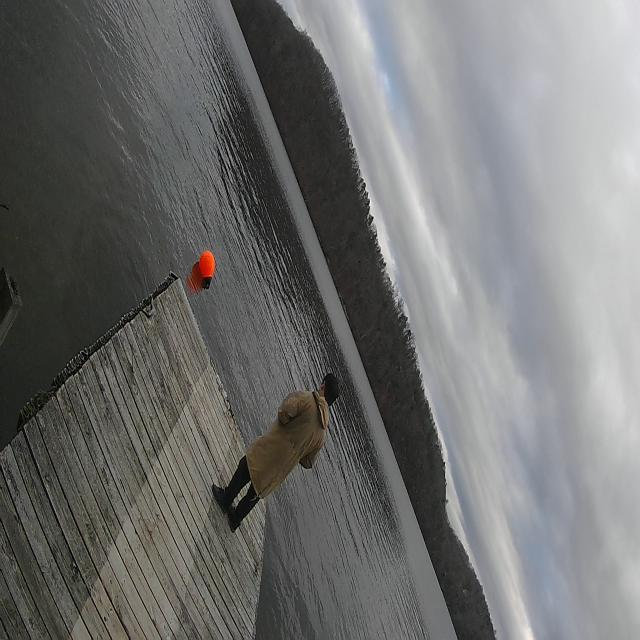Buoy: (194, 245, 218, 292)
